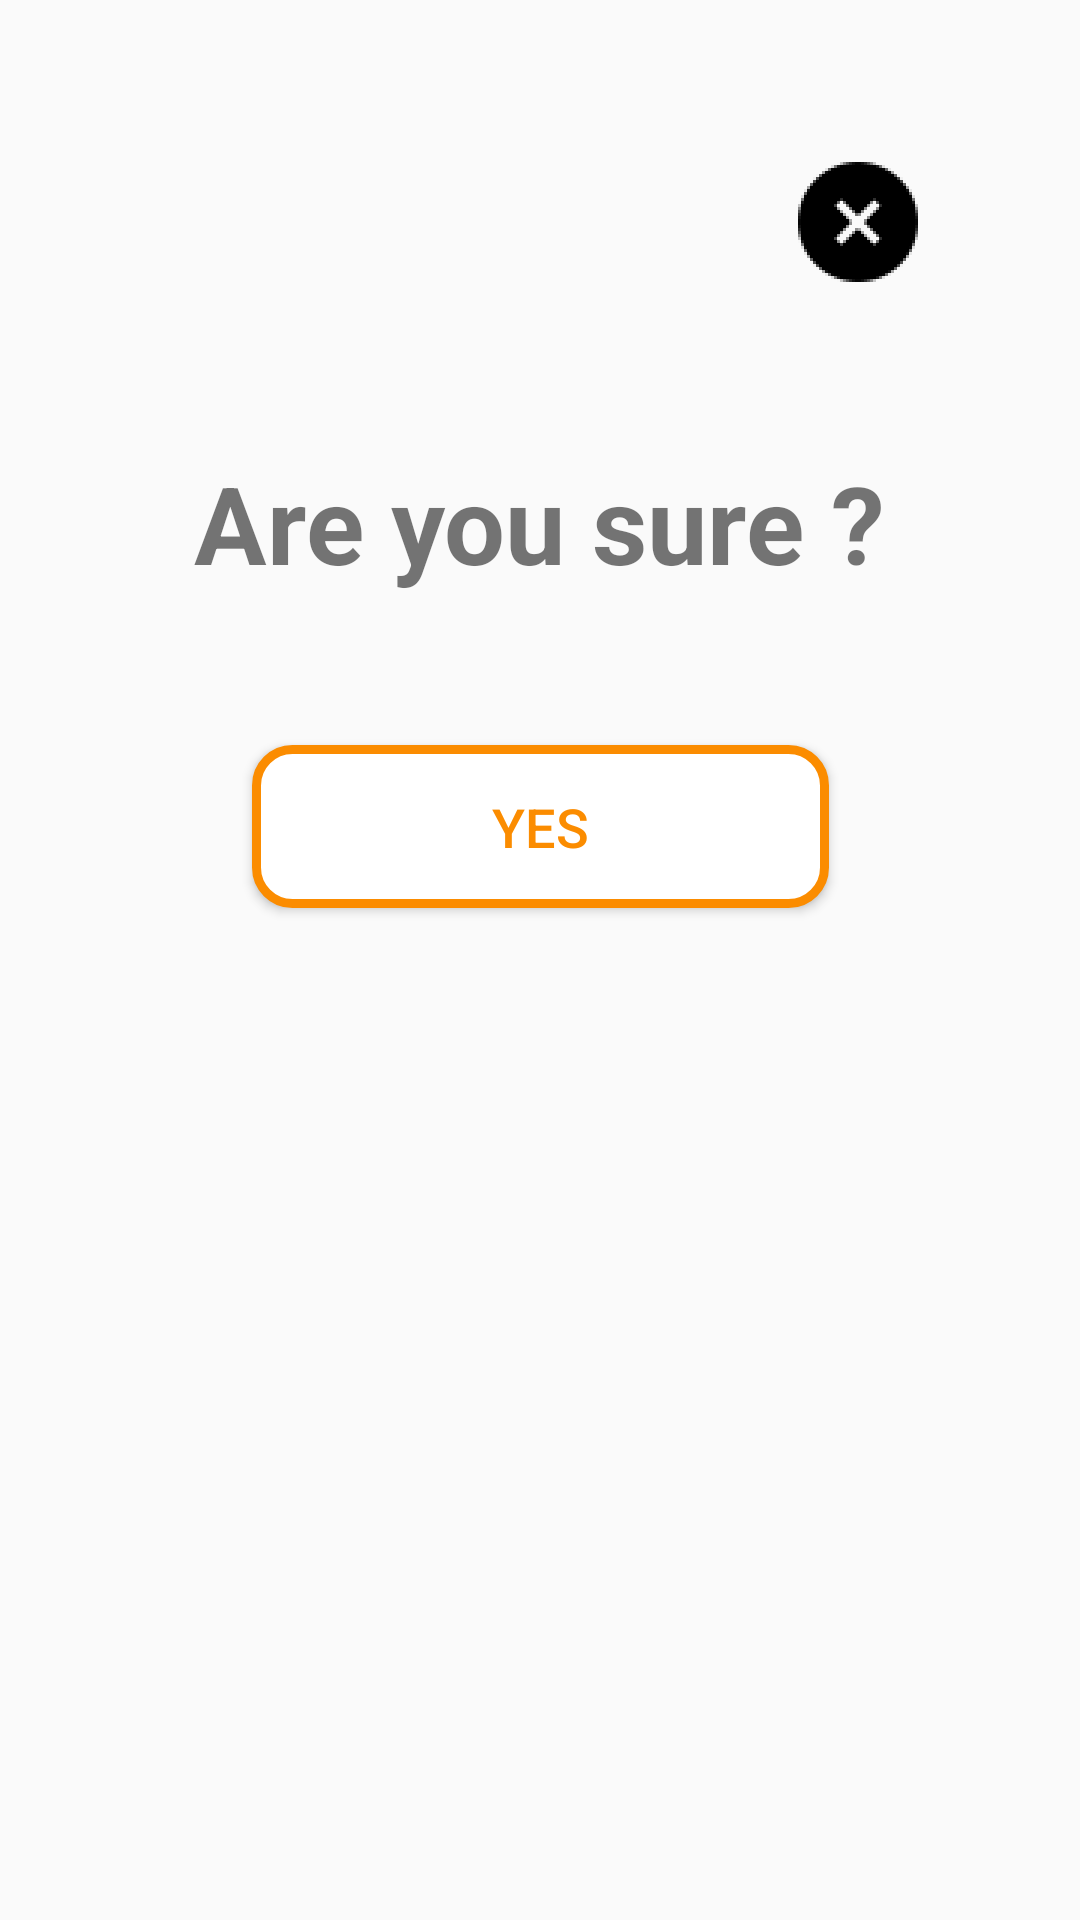

Icons on this 1080 x 1920 Android screen, each with the point to tap as (x,y):
cancel: (858,222)
